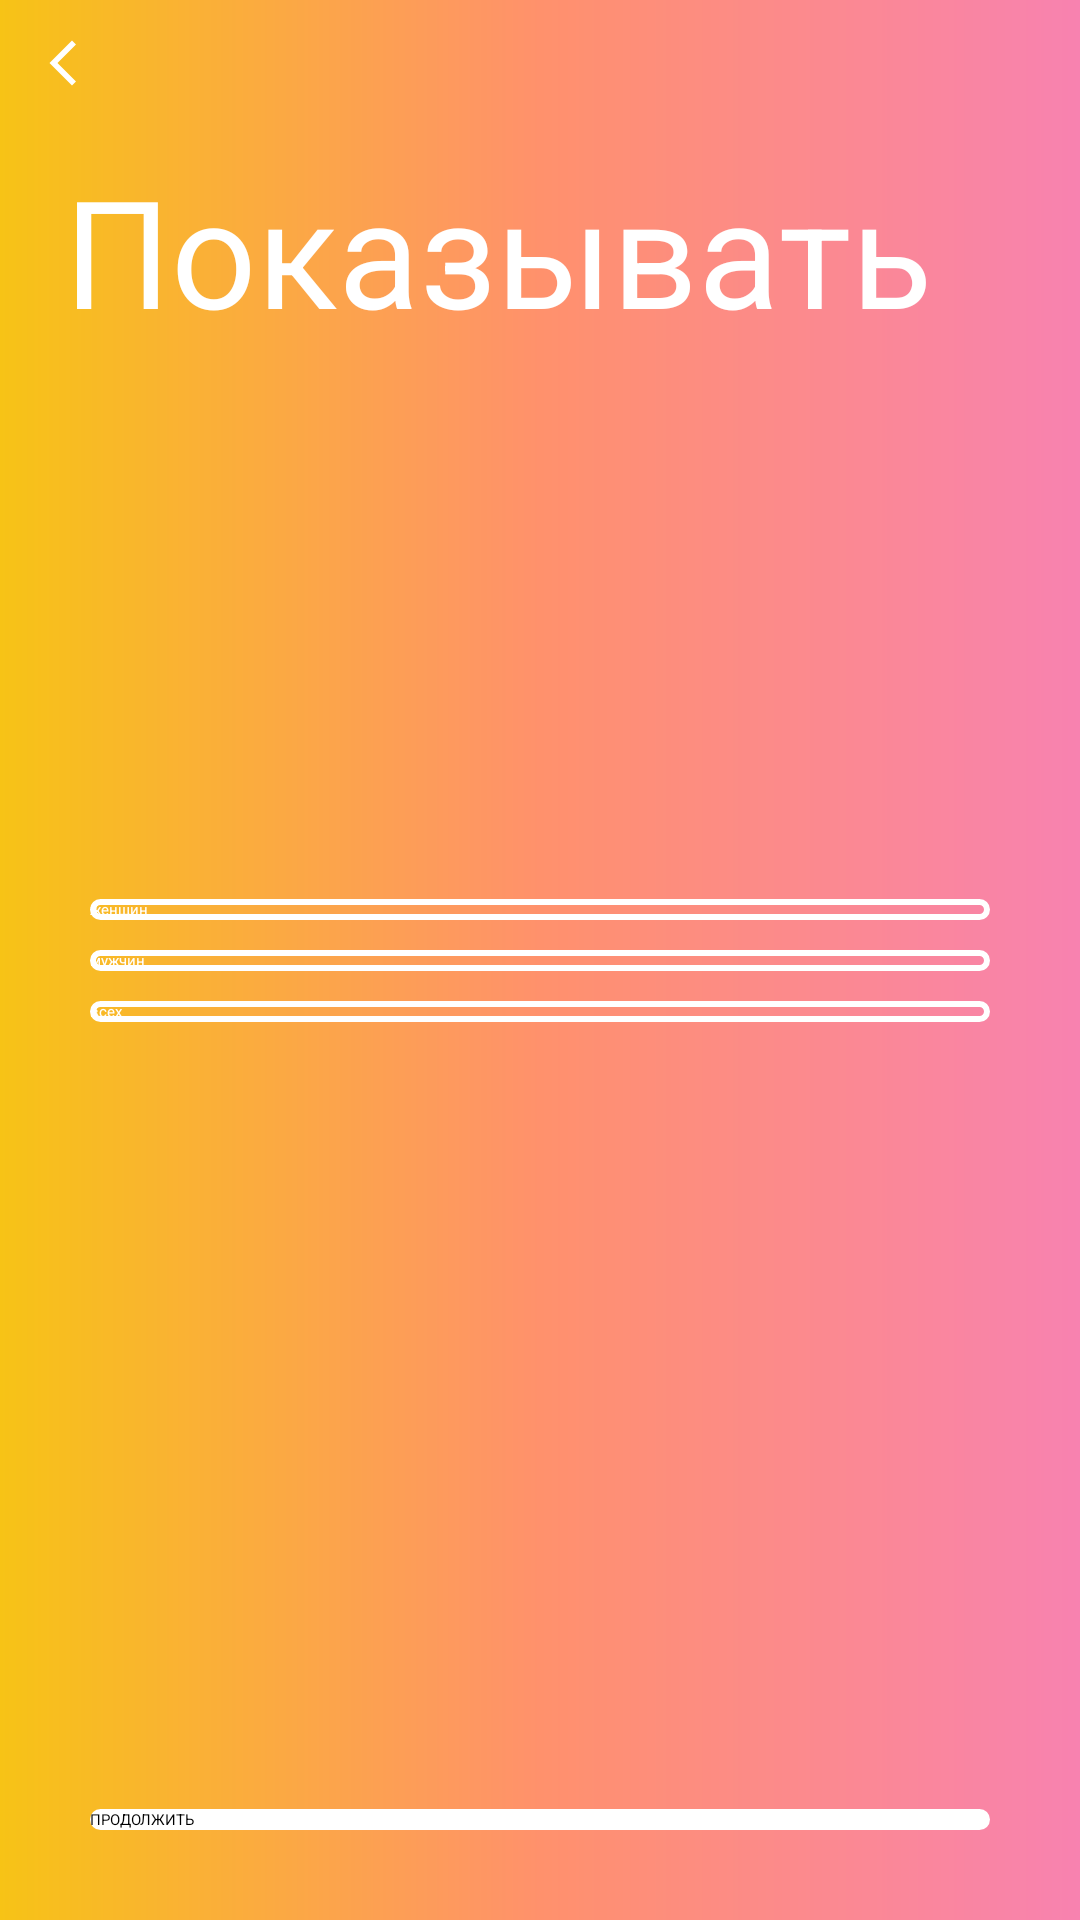

Icons on this 1080 × 1920 Android screen, each with the point to tap as (x,y):
back: (63,63)
